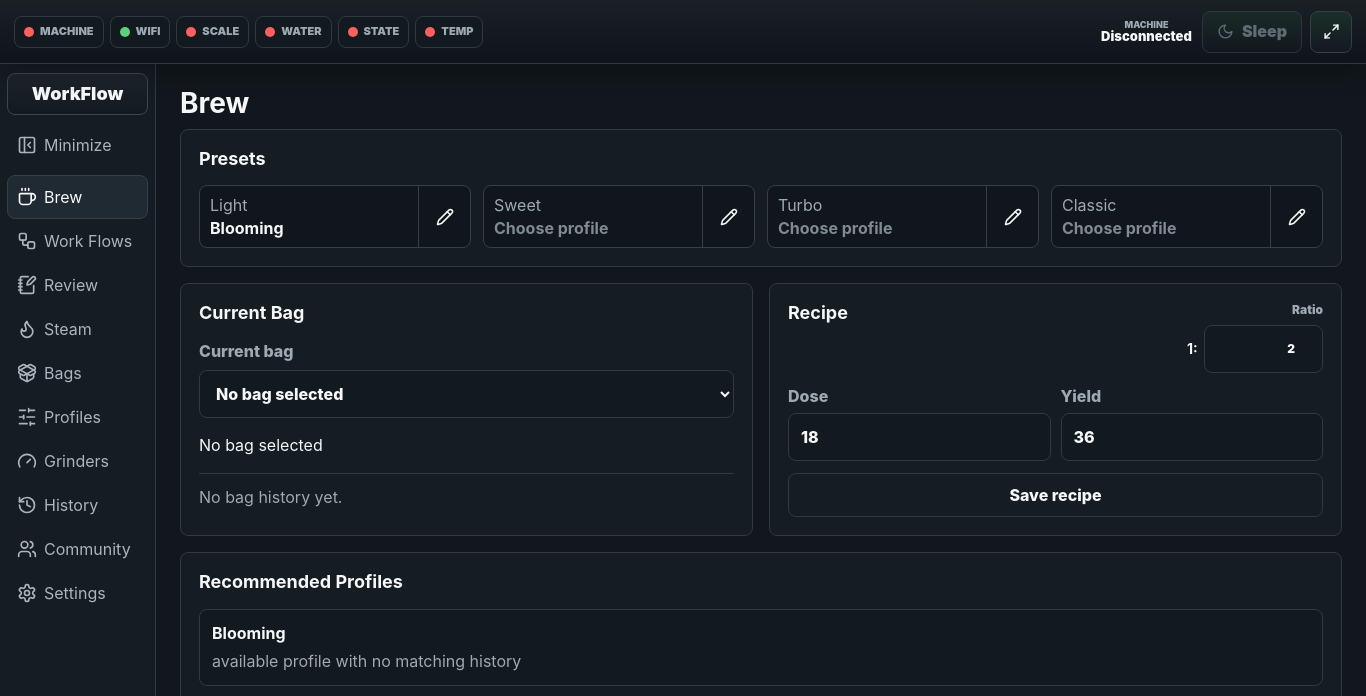
Test case: App shell › collapses the menu to icons and remembers the state
Click the button with aria-label "Collapse menu": (78, 145) top-left (7, 123), bottom-right (148, 167)
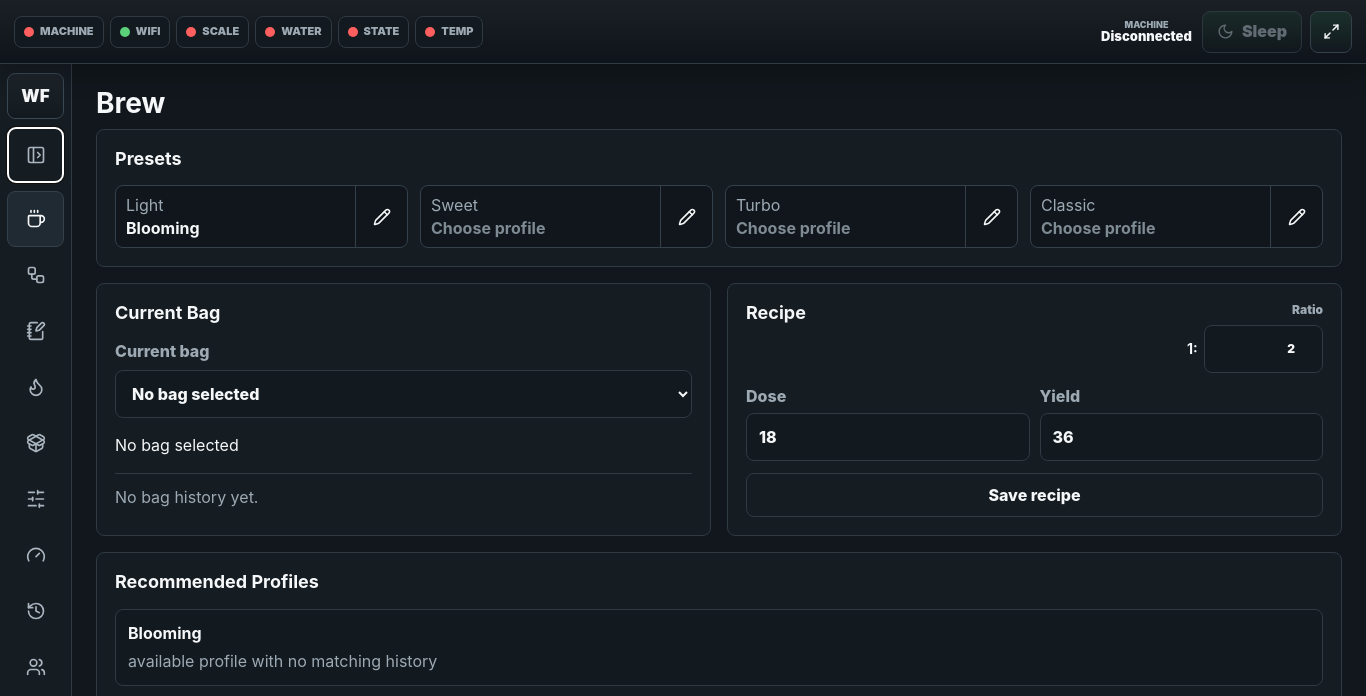
Result: the button named "Expand menu" is shown at top-left (7, 127), bottom-right (64, 183)
